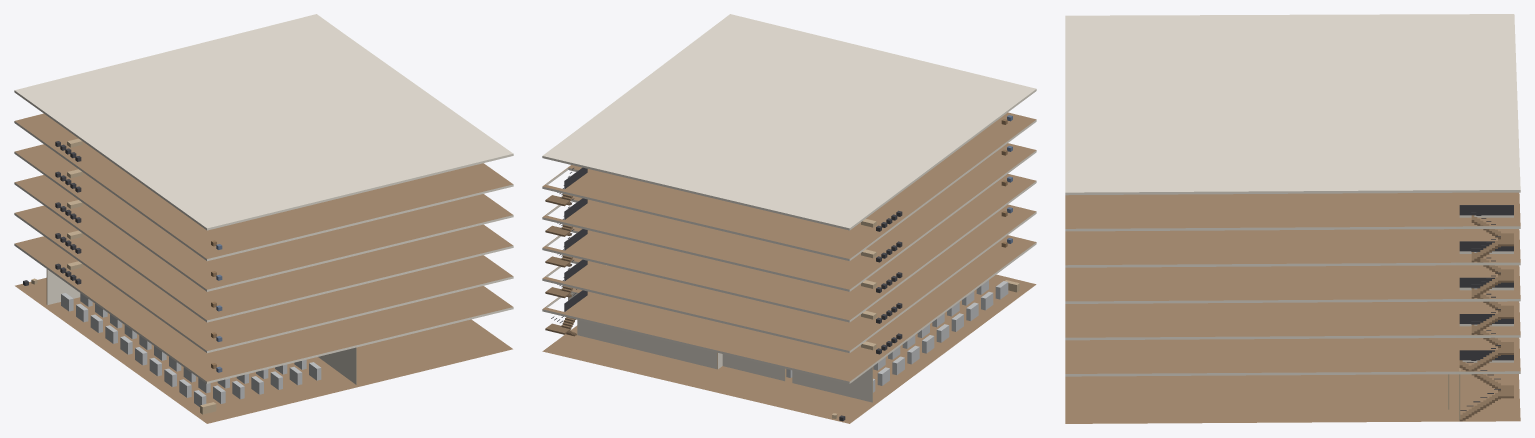
The model's file is interior.glb.
3 views of the same model, side by side, from view 1: azimuth 30°, elevation 25°; view 2: azimuth 150°, elevation 25°; view 3: azimuth 270°, elevation 25° (orthographic). The views are drawn at different scales.
Parts seen in each view (by area): view 1: slabs, coarse-s0, partitions; view 2: slabs, partitions, coarse-s0, stair; view 3: slabs, stair.
Part boxes in pixels (x1,y1,x2,y2): slabs: [14, 14, 513, 423]; coarse-s0: [23, 278, 321, 414]; partitions: [46, 269, 356, 384]; slabs: [542, 14, 1036, 423]; partitions: [568, 293, 872, 402]; coarse-s0: [786, 280, 1019, 421]; stair: [545, 167, 587, 336]; slabs: [1065, 14, 1520, 423]; stair: [1459, 205, 1513, 421].
Bounding box in the file's own units: 38.72 × 23.41 × 41.71.
